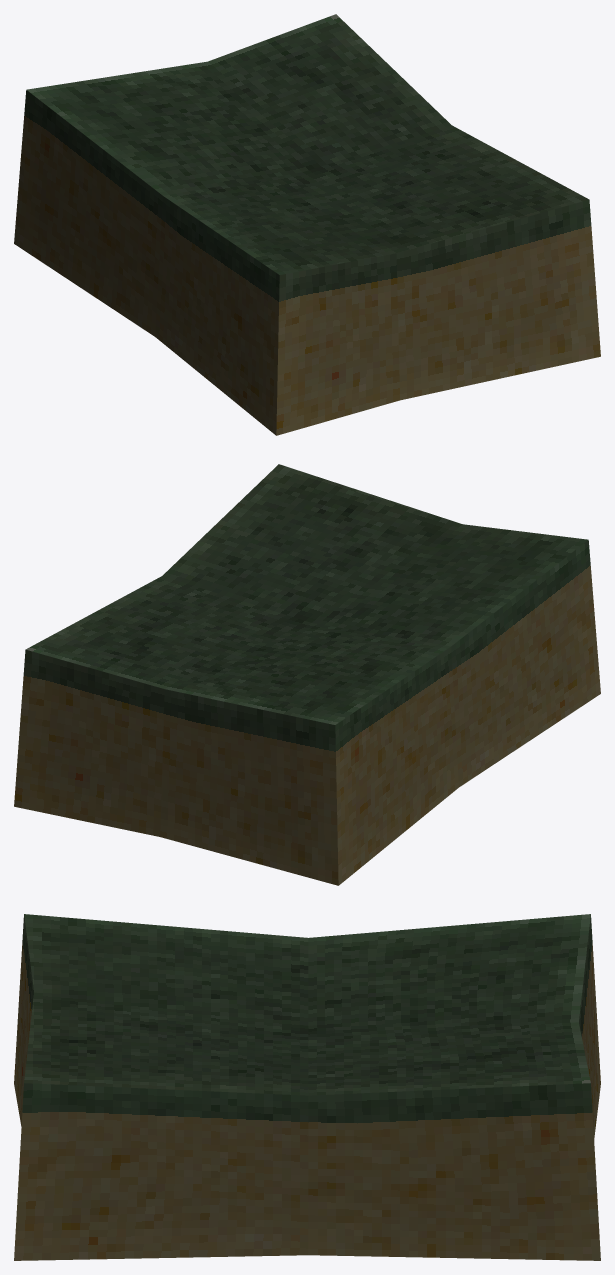
The model's file is sponge_mp_1.glb.
3 renders of one model, top to bottom at view 1: azimuth 30°, elevation 25°; view 2: azimuth 150°, elevation 25°; view 3: azimuth 270°, elevation 25°, orthographic. The views are drawn at different scales.
Visible parts, largest first — view 1: sponge_mp_1; view 2: sponge_mp_1; view 3: sponge_mp_1.
Boxes of the visible parts, <box> form: sponge_mp_1: <box>14,14,600,435</box>; sponge_mp_1: <box>14,464,600,885</box>; sponge_mp_1: <box>14,914,600,1260</box>.
Bounding box in the file's own units: 0.1 × 0.0458 × 0.14.
1 material, 1 textured.
